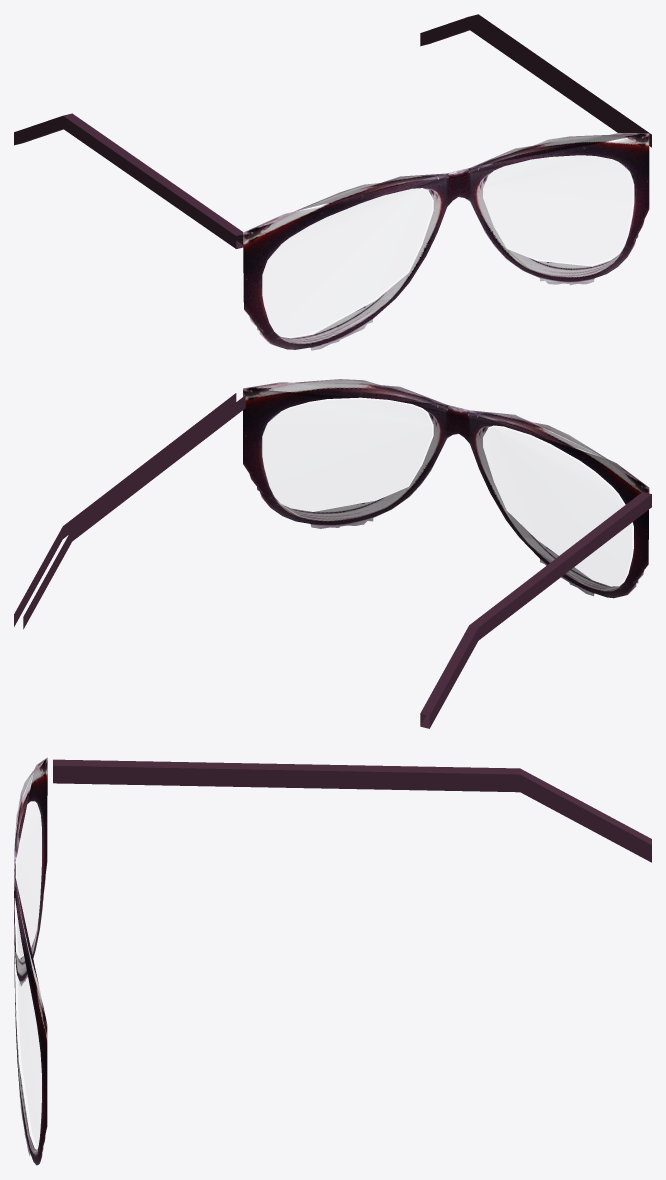
File: gothamstyle-231_brown.glb
3 renders of one model, top to bottom at view 1: azimuth 30°, elevation 25°; view 2: azimuth 150°, elevation 25°; view 3: azimuth 270°, elevation 25°, orthographic. The views are drawn at different scales.
Visible parts, largest first — view 1: frame_front, temple_viewer_left, temple_viewer_right; view 2: frame_front, temple_viewer_left, temple_viewer_right; view 3: temple_viewer_left, frame_front.
Part boxes in pixels (left/top/right/bottom): frame_front: left=243, top=133, right=649, bottom=350; temple_viewer_left: left=14, top=113, right=243, bottom=248; temple_viewer_right: left=420, top=14, right=651, bottom=147; frame_front: left=243, top=379, right=649, bottom=598; temple_viewer_left: left=420, top=492, right=651, bottom=728; temple_viewer_right: left=14, top=393, right=245, bottom=629; temple_viewer_left: left=53, top=759, right=651, bottom=862; frame_front: left=14, top=757, right=47, bottom=1165.
Size of the model in its own units: 0.1327 by 0.0481 by 0.131.
Materials: 3 (2 with a texture image).
